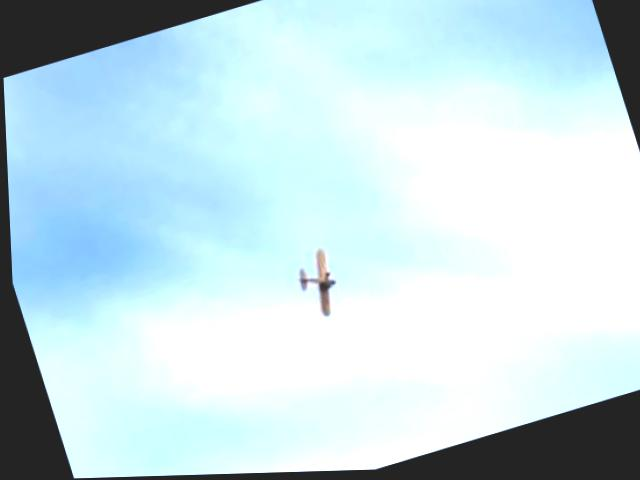uav: (284, 245, 345, 327)
